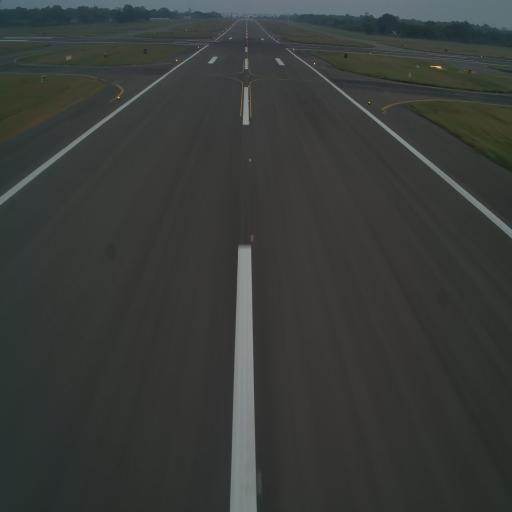off: (252, 468, 268, 499)
on: (249, 230, 258, 246), (114, 91, 122, 102), (366, 97, 372, 109), (247, 153, 253, 164), (175, 57, 179, 64), (247, 120, 251, 126), (313, 61, 317, 66), (247, 98, 249, 104), (247, 84, 249, 89)
